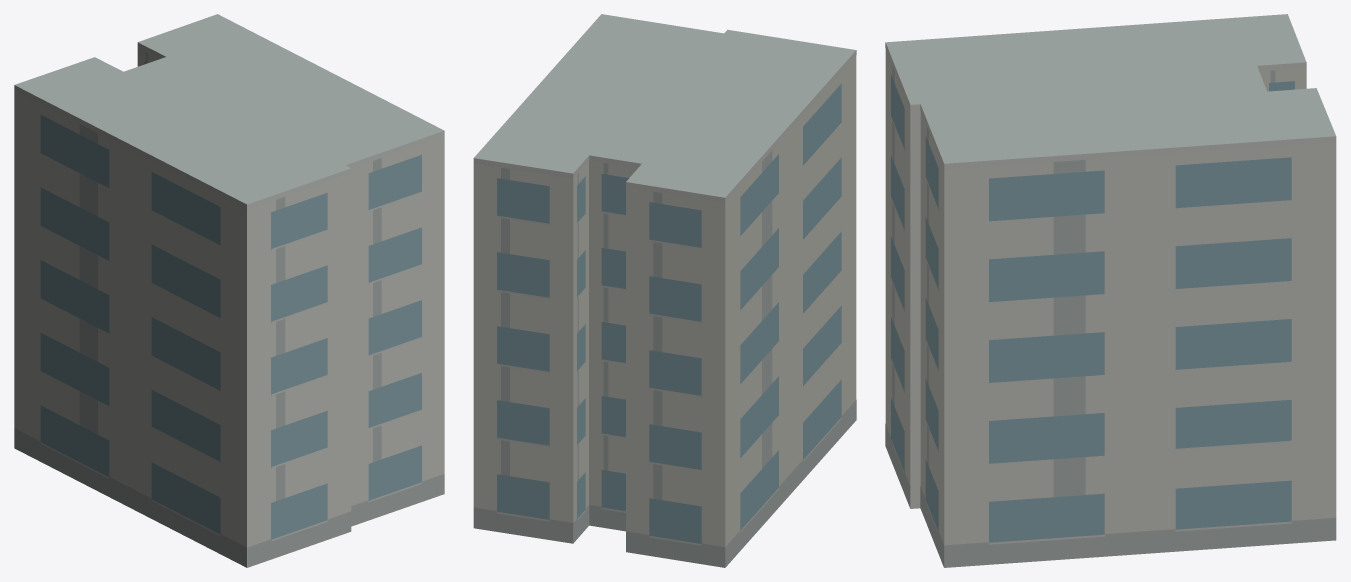
Rendered from survey-upis-33008673.glb.
3 views of the same model, side by side, from view 1: azimuth 30°, elevation 25°; view 2: azimuth 150°, elevation 25°; view 3: azimuth 270°, elevation 25° (orthographic). The views are drawn at different scales.
Parts seen in each view (by area): view 1: survey-upis-33008673.tmp; view 2: survey-upis-33008673.tmp; view 3: survey-upis-33008673.tmp.
Part boxes in pixels (x1,y1,x2,y2): survey-upis-33008673.tmp: [14, 14, 444, 567]; survey-upis-33008673.tmp: [473, 14, 856, 567]; survey-upis-33008673.tmp: [885, 14, 1336, 567].
Bounding box in the file's own units: 13.2 × 16.6 × 16.79.
